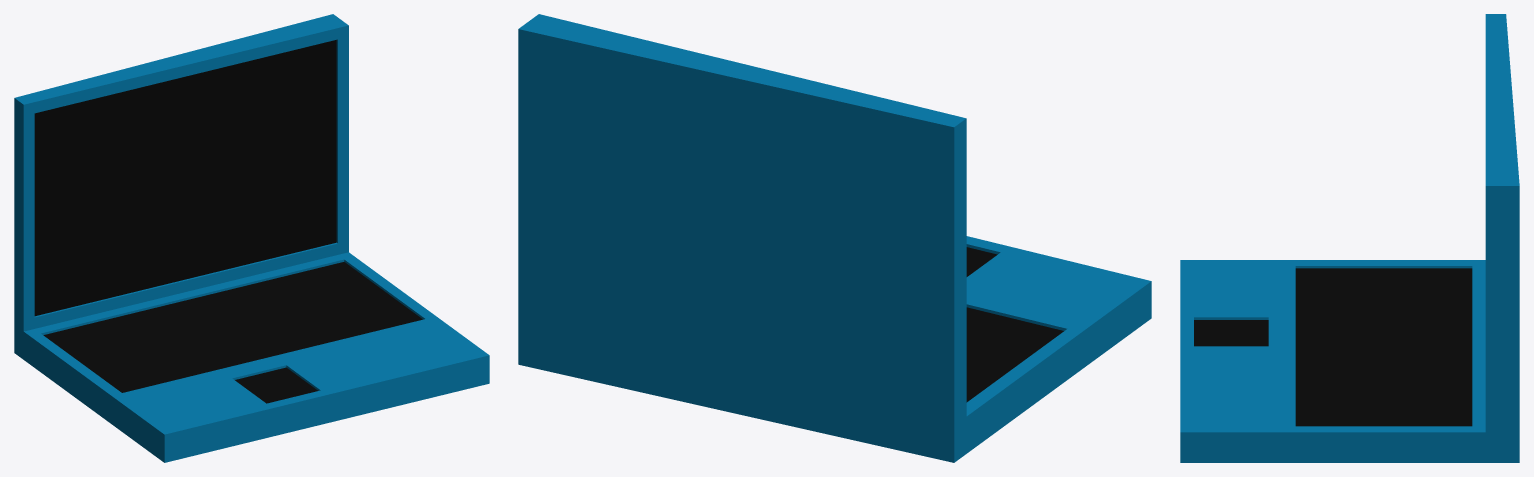
File: laptop.FBX
3 renders of one model, left to right at view 1: azimuth 30°, elevation 25°; view 2: azimuth 150°, elevation 25°; view 3: azimuth 270°, elevation 25°, orthographic. The views are drawn at different scales.
Visible parts, largest first — view 1: Box001; view 2: Box001; view 3: Box001.
Boxes of the visible parts, bbox=[...] form: Box001: bbox=[14, 14, 489, 462]; Box001: bbox=[518, 14, 1151, 462]; Box001: bbox=[1180, 14, 1519, 462].
Bounding box in the file's own units: 0.3 × 0.225 × 0.25.
